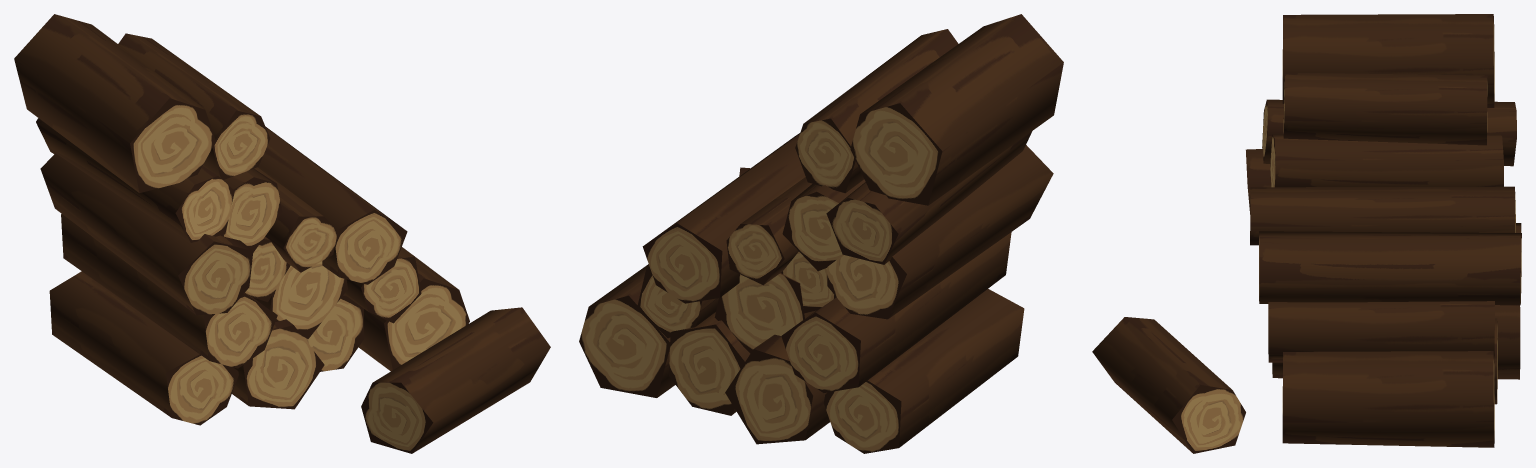
Rendered from SM_PROP_logpile_dungeon.fbx.
The picture shows the model from 3 angles, left to right: view 1: azimuth 30°, elevation 25°; view 2: azimuth 150°, elevation 25°; view 3: azimuth 270°, elevation 25°; orthographic projection. The views are drawn at different scales.
Visible parts, largest first — view 1: SM_PROP_logpile_dungeon; view 2: SM_PROP_logpile_dungeon; view 3: SM_PROP_logpile_dungeon.
Part boxes in pixels (x1,y1,x2,y2): SM_PROP_logpile_dungeon: (14,14,550,453); SM_PROP_logpile_dungeon: (579,14,1063,453); SM_PROP_logpile_dungeon: (1092,14,1521,453).
Size of the model in its own units: 81.53 by 72.86 by 91.09.
